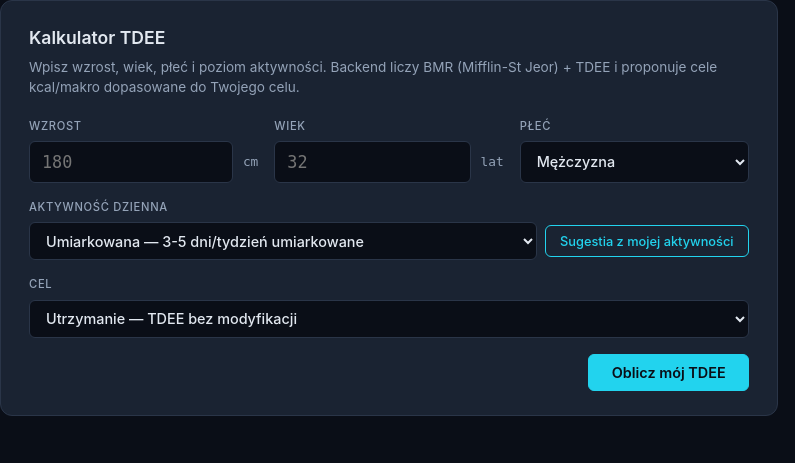
TDEECalculatorWizard › suggest 503 (Anthropic key missing) shows friendly error
This screenshot has width=795, height=463.
Check: the heading "Kalkulator TDEE" is shown, box [29,27,165,48]
Click the button "Sugestia z mojej aktywności": x=647, y=241 [545,225,749,257]
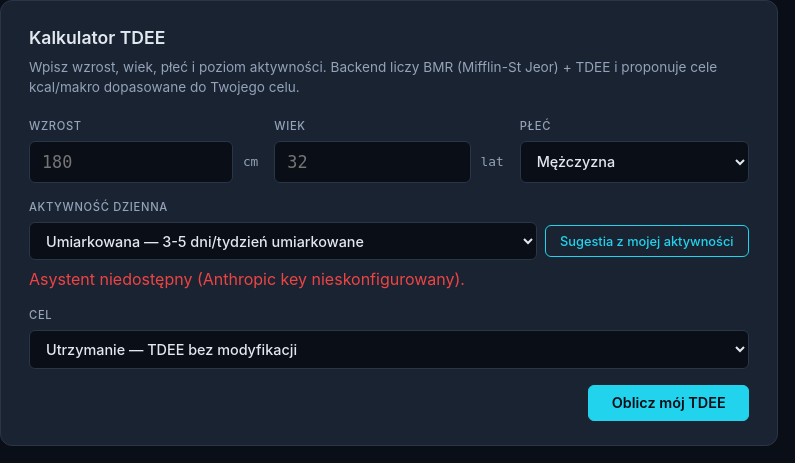
Check: the text "Asystent niedostępny (Anthropic key nieskonfigurowany)." is shown, box [29,269,465,289]
